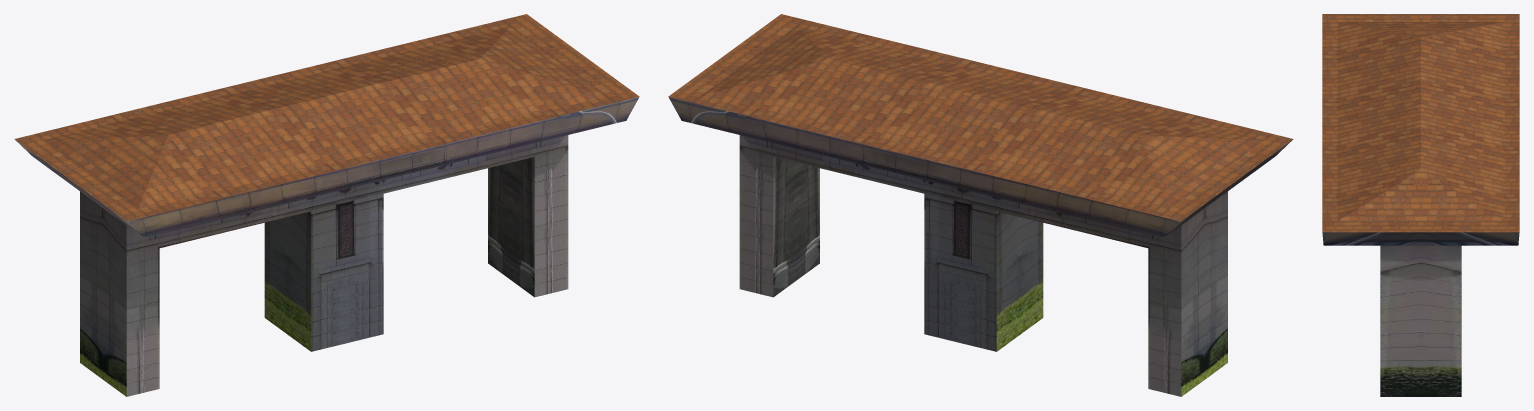
File: Gate-1.FBX
3 renders of one model, left to right at view 1: azimuth 30°, elevation 25°; view 2: azimuth 150°, elevation 25°; view 3: azimuth 270°, elevation 25°, orthographic. The views are drawn at different scales.
Parts seen in each view (by area): view 1: Gate-1; view 2: Gate-1; view 3: Gate-1.
Boxes of the visible parts, left/top/right/bottom form: Gate-1: left=14, top=14, right=639, bottom=396; Gate-1: left=668, top=14, right=1293, bottom=396; Gate-1: left=1322, top=14, right=1519, bottom=396.
Bounding box in the file's own units: 17.55 × 7.49 × 6.7.
